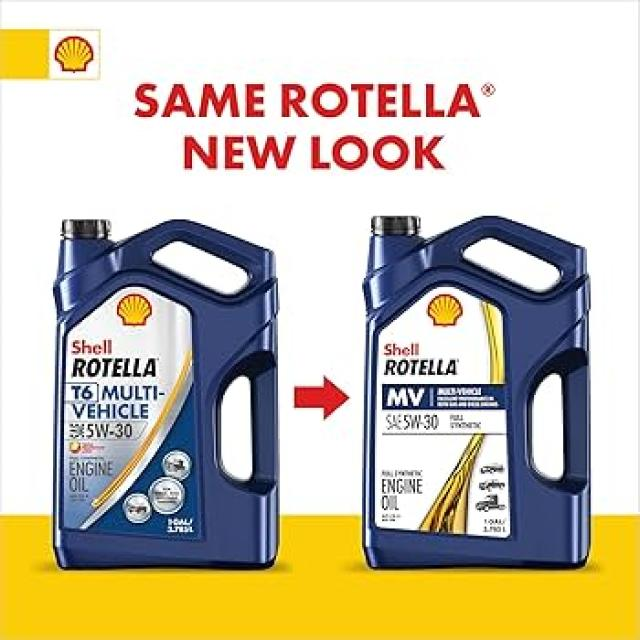motor_oil: (44, 206, 292, 581), (360, 209, 599, 587)
